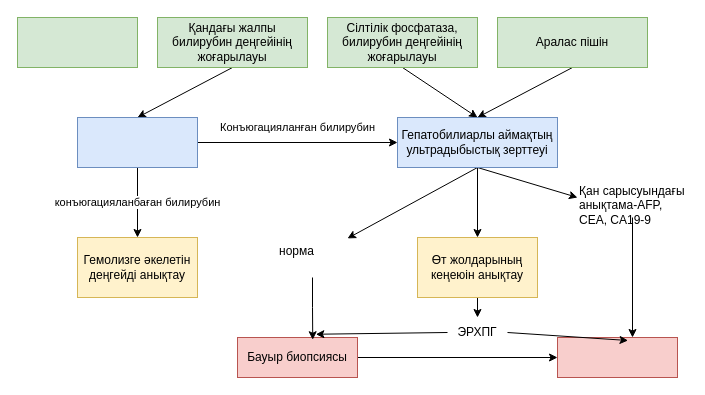
Some shapes in this 705 by 395 pixel diagram are drawn without their labels. Each missing label, with the centre of its shape:
АСТ/АЛТ жоғарылауы: the point at 77,42
КТ/МРТ: the point at 617,357
Фракцияланған билирубин: the point at 137,142
